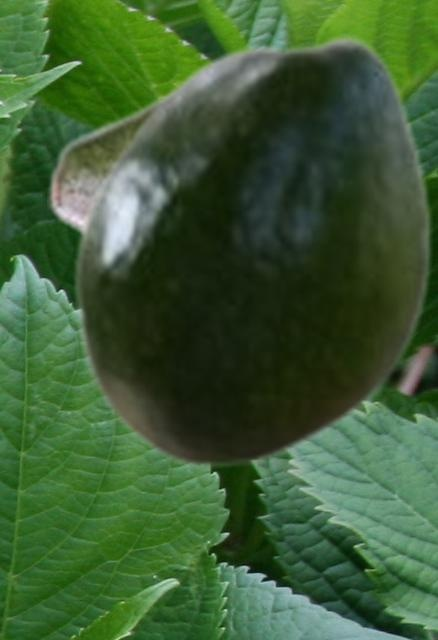avocado: (71, 33, 432, 469), (47, 82, 175, 238)
